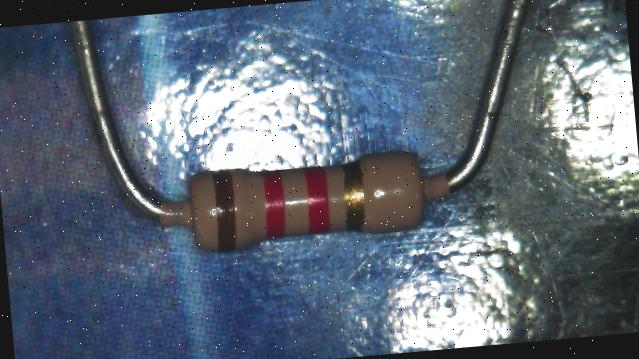brown: (211, 170, 238, 252)
gold: (341, 160, 367, 232)
red: (263, 169, 286, 238), (306, 166, 328, 234)
resistor: (163, 126, 453, 272)
